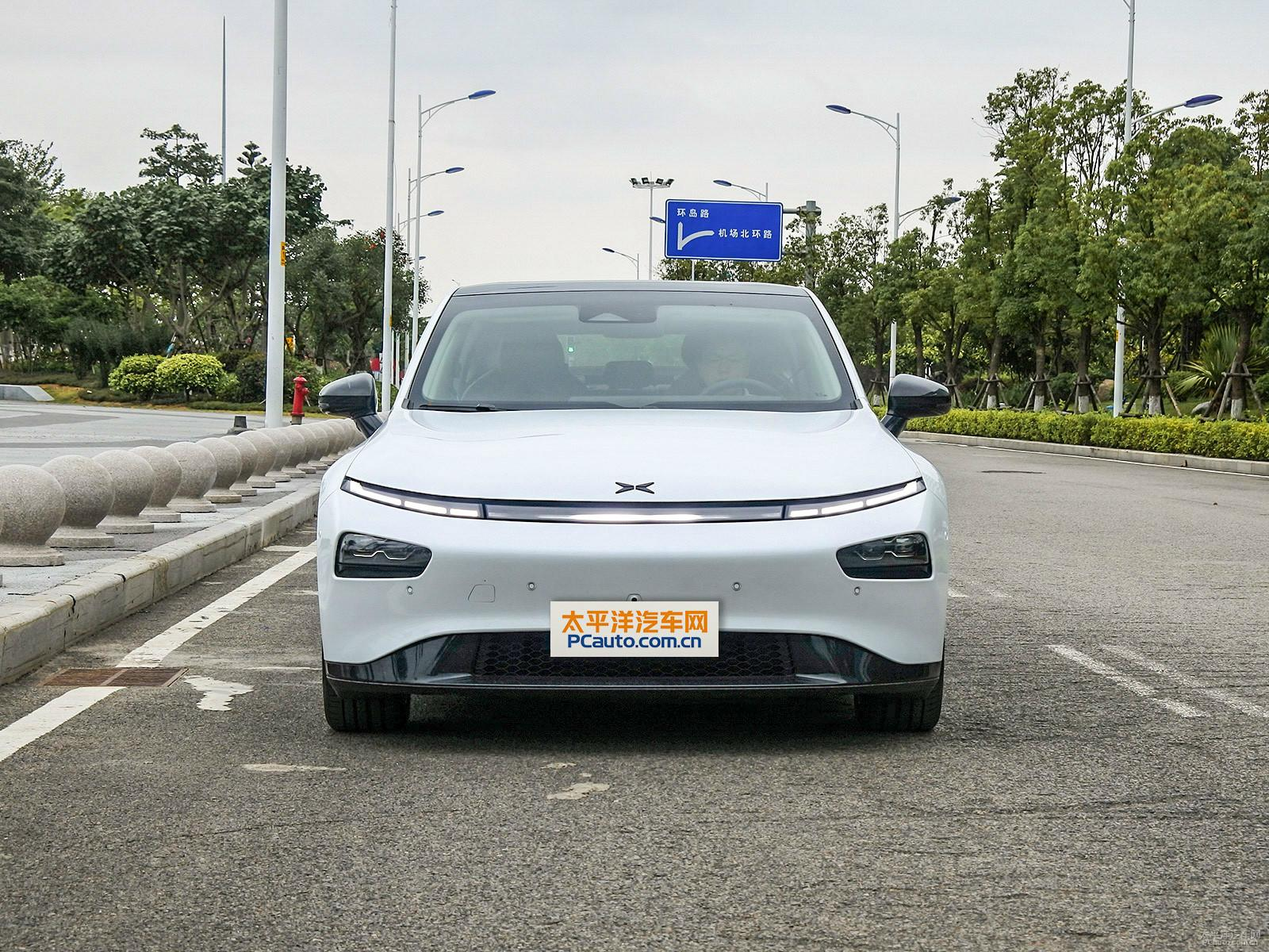XPeng Motors: (615, 482, 655, 494)
